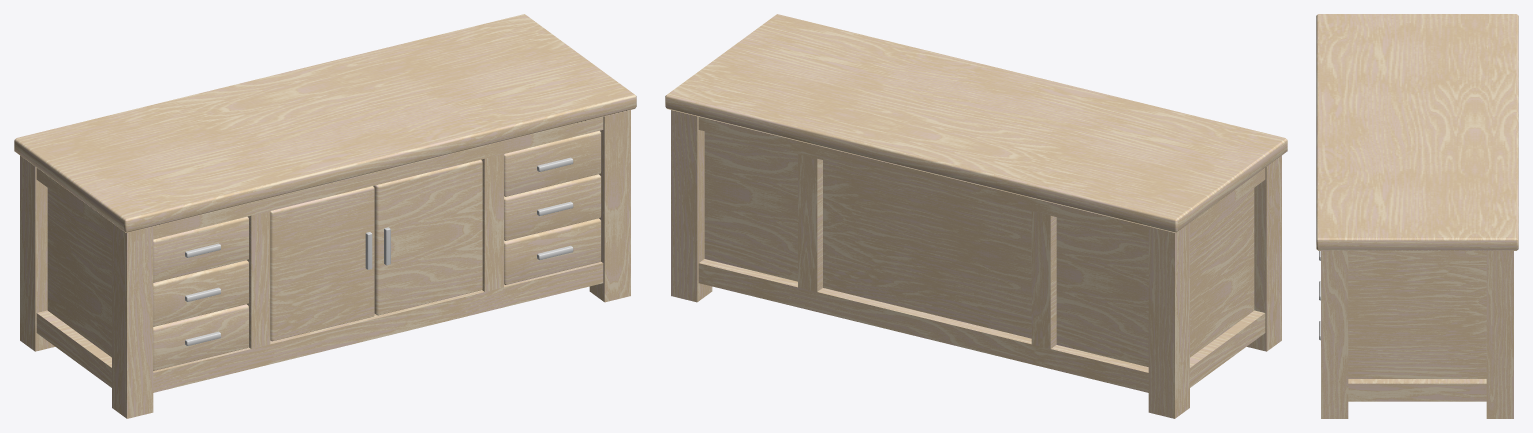
The model's file is dresser_015.fbx.
3 renders of one model, left to right at view 1: azimuth 30°, elevation 25°; view 2: azimuth 150°, elevation 25°; view 3: azimuth 270°, elevation 25°, orthographic. The views are drawn at different scales.
Parts seen in each view (by area): view 1: dresser_015; view 2: dresser_015; view 3: dresser_015.
Part boxes in pixels (bbox=[...]): dresser_015: bbox=[14, 14, 636, 418]; dresser_015: bbox=[665, 14, 1287, 418]; dresser_015: bbox=[1316, 14, 1518, 418].
Size of the model in its own units: 278 by 106 by 105.
